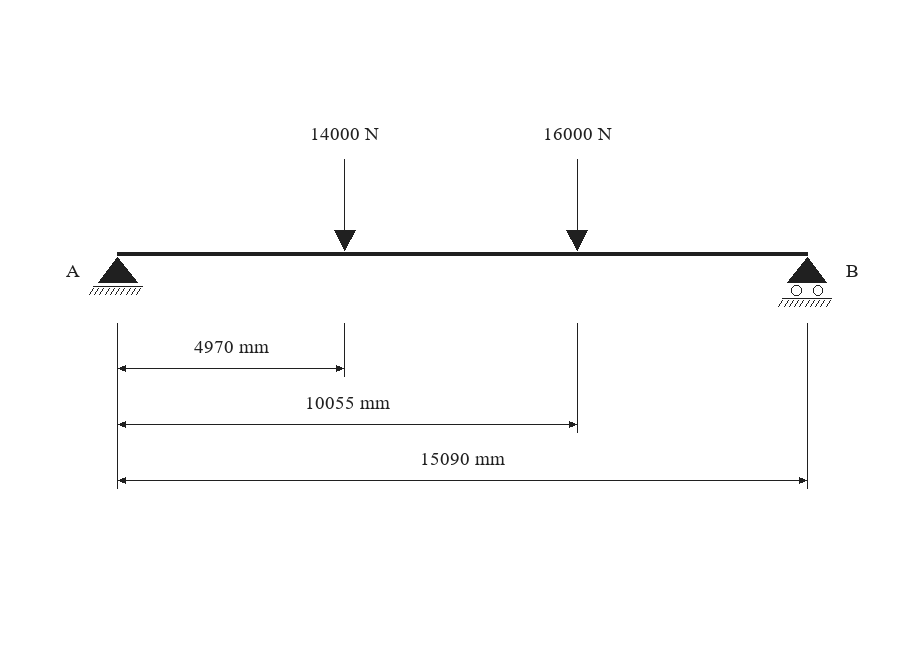pin_support: (89, 257, 143, 295)
point_load: (334, 159, 356, 251), (566, 159, 588, 251)
roller_support: (778, 257, 832, 307)
